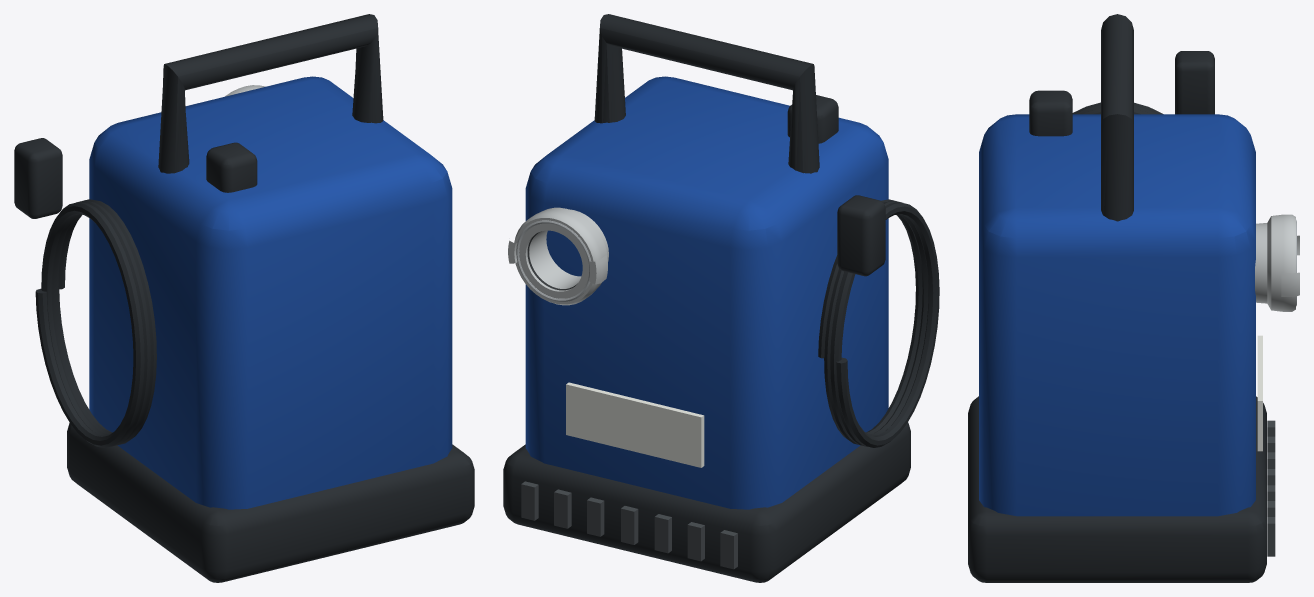
Rendered from blue_submersible_pump_2.glb.
3 views of the same model, side by side, from view 1: azimuth 30°, elevation 25°; view 2: azimuth 150°, elevation 25°; view 3: azimuth 270°, elevation 25° (orthographic).
Parts seen in each view (by area): view 1: blue_submersible_pump_2; view 2: blue_submersible_pump_2; view 3: blue_submersible_pump_2.
Boxes of the visible parts, bbox=[...] form: blue_submersible_pump_2: bbox=[14, 14, 474, 582]; blue_submersible_pump_2: bbox=[503, 14, 939, 582]; blue_submersible_pump_2: bbox=[968, 14, 1299, 582].
Size of the model in its own units: 0.3054 by 0.3914 by 0.2561.
